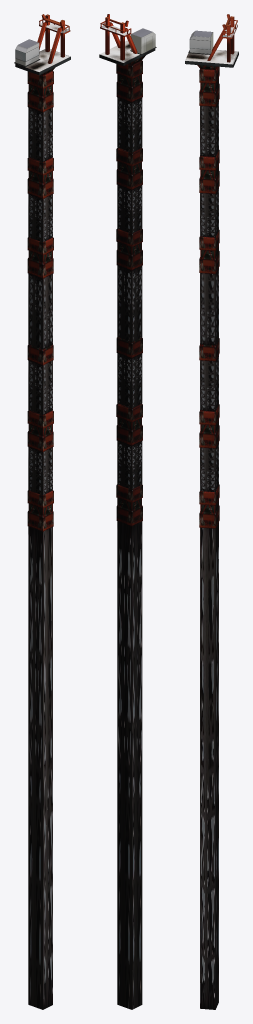
Rendered from kure-n5-dodai.obj.
3 renders of one model, left to right at view 1: azimuth 30°, elevation 25°; view 2: azimuth 210°, elevation 25°; view 3: azimuth 330°, elevation 25°, orthographic.
Bounding box in the file's own units: 12.59 × 239 × 10.19.
Materials: 1 (1 with a texture image).
